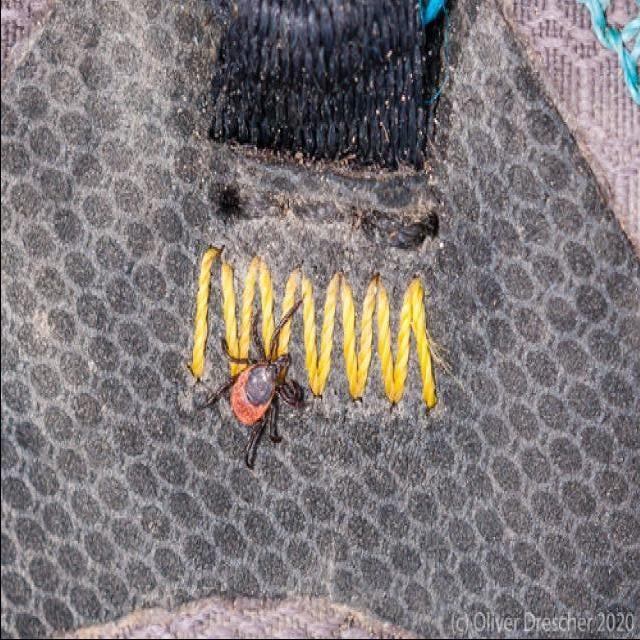Ixodes Ricinus-F: (205, 279, 315, 471)
